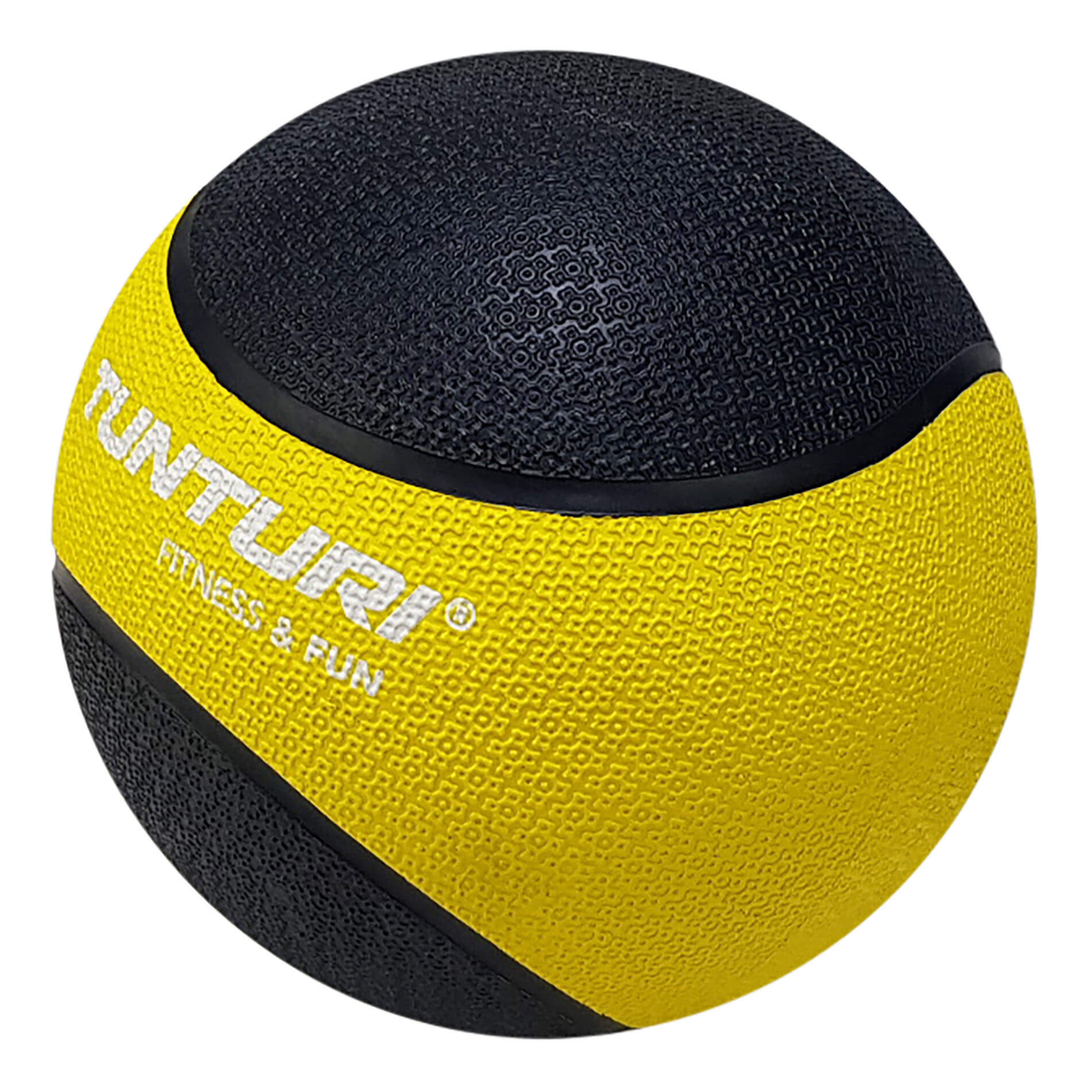sphere: (51, 50, 1037, 1039)
